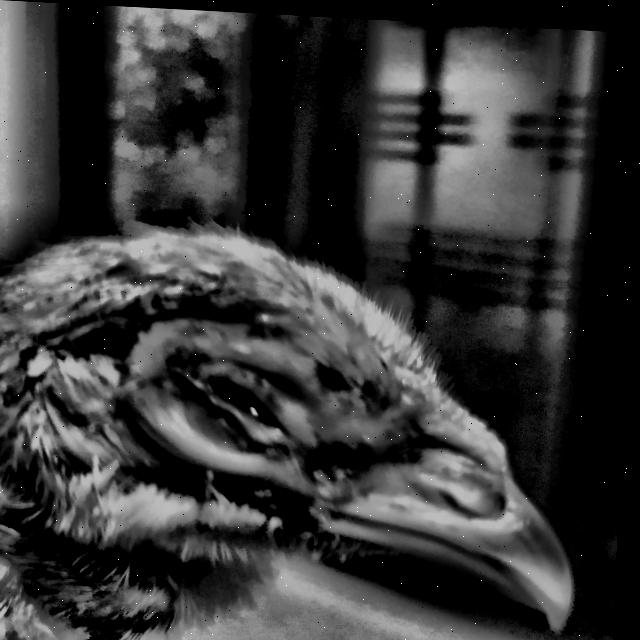Coryza: (0, 191, 633, 640)
